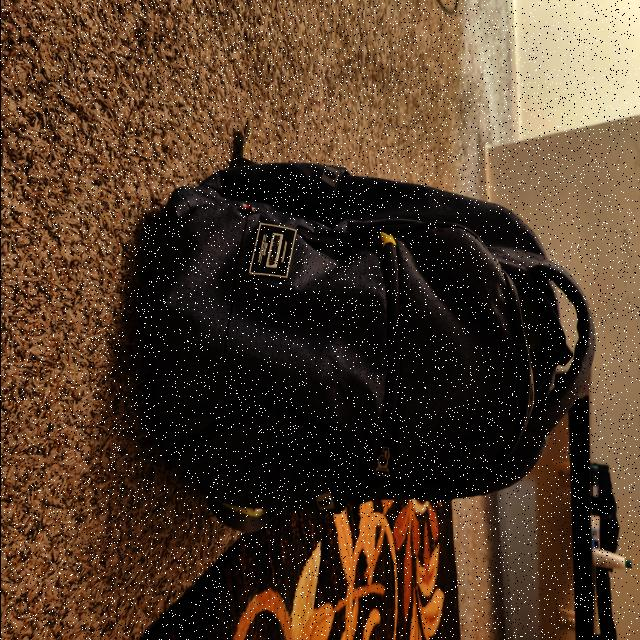bag: (156, 185, 590, 492)
